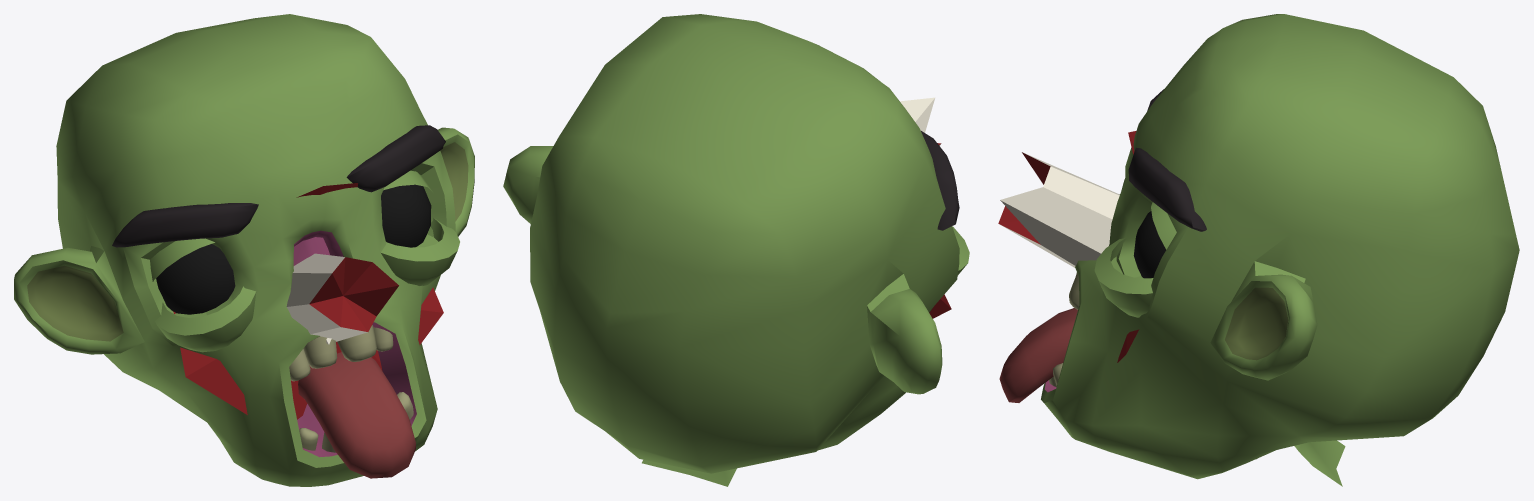
File: gib_head.glb
3 renders of one model, left to right at view 1: azimuth 30°, elevation 25°; view 2: azimuth 150°, elevation 25°; view 3: azimuth 270°, elevation 25°, orthographic. The views are drawn at different scales.
Parts seen in each view (by area): view 1: gib_head_Zombie, gib_head_Eyelid; view 2: gib_head_Zombie; view 3: gib_head_Zombie, gib_head_Eyelid.
Part boxes in pixels (left/top/right/bottom): gib_head_Zombie: left=14, top=14, right=474, bottom=486; gib_head_Eyelid: left=150, top=170, right=433, bottom=344; gib_head_Zombie: left=503, top=14, right=969, bottom=486; gib_head_Zombie: left=998, top=14, right=1519, bottom=486; gib_head_Eyelid: left=1128, top=131, right=1176, bottom=249.
Bounding box in the file's own units: 0.6594 × 0.5798 × 0.6569.
Materials: 3 (1 with a texture image).
